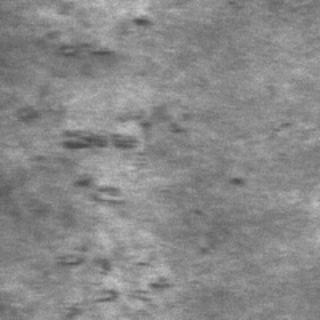rolled pit: (58, 146, 172, 314), (35, 20, 139, 152), (31, 10, 149, 62)
